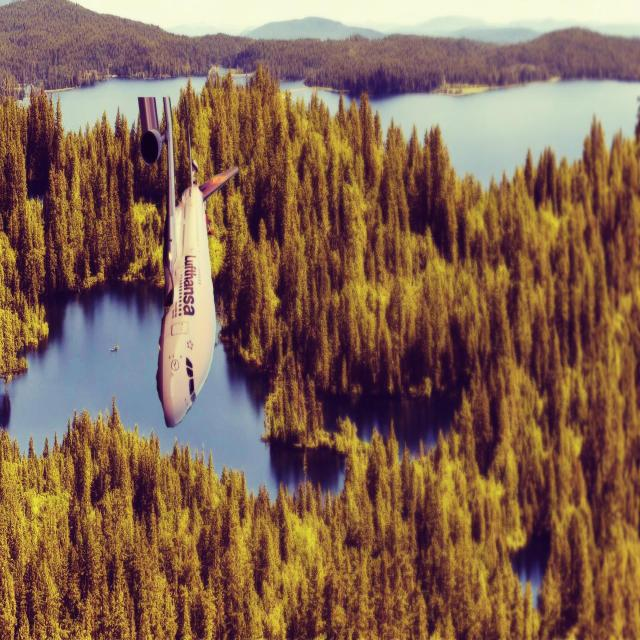airplane: (136, 91, 239, 428)
